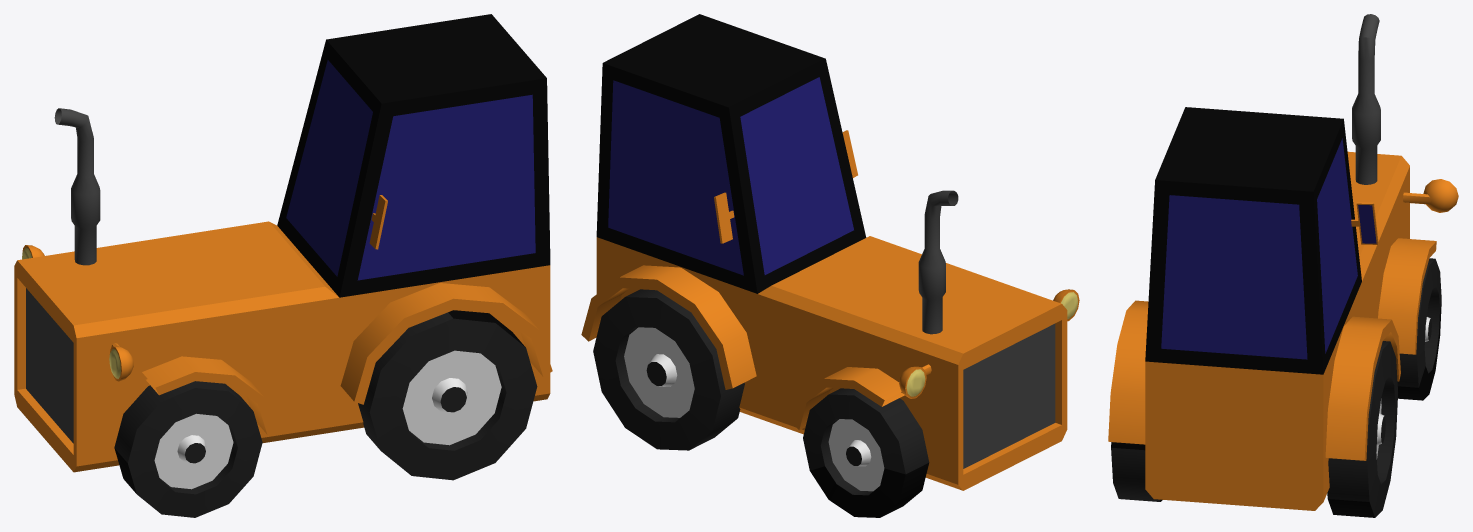
Rendered from tractor.glb.
3 views of the same model, side by side, from view 1: azimuth 30°, elevation 25°; view 2: azimuth 150°, elevation 25°; view 3: azimuth 270°, elevation 25° (orthographic). The views are drawn at different scales.
Parts seen in each view (by area): view 1: Cube, Cylinder, Circle, Sphere; view 2: Cube, Cylinder, Circle, Sphere, Plane; view 3: Cube, Cylinder, Circle, Sphere, Plane.
Part boxes in pixels (x1,y1,x2,y2): Cube: (14, 14, 550, 472); Cylinder: (114, 283, 552, 517); Circle: (54, 108, 100, 265); Sphere: (22, 245, 133, 381); Cube: (596, 14, 1067, 490); Cylinder: (581, 265, 929, 517); Circle: (918, 190, 958, 334); Sphere: (899, 289, 1079, 398); Plane: (714, 130, 857, 243); Cube: (1145, 107, 1409, 510); Cylinder: (1108, 238, 1441, 517); Circle: (1352, 14, 1380, 184); Sphere: (1403, 179, 1458, 212); Plane: (1351, 202, 1378, 244).
Size of the model in its own units: 5.81 by 4.44 by 3.88.
